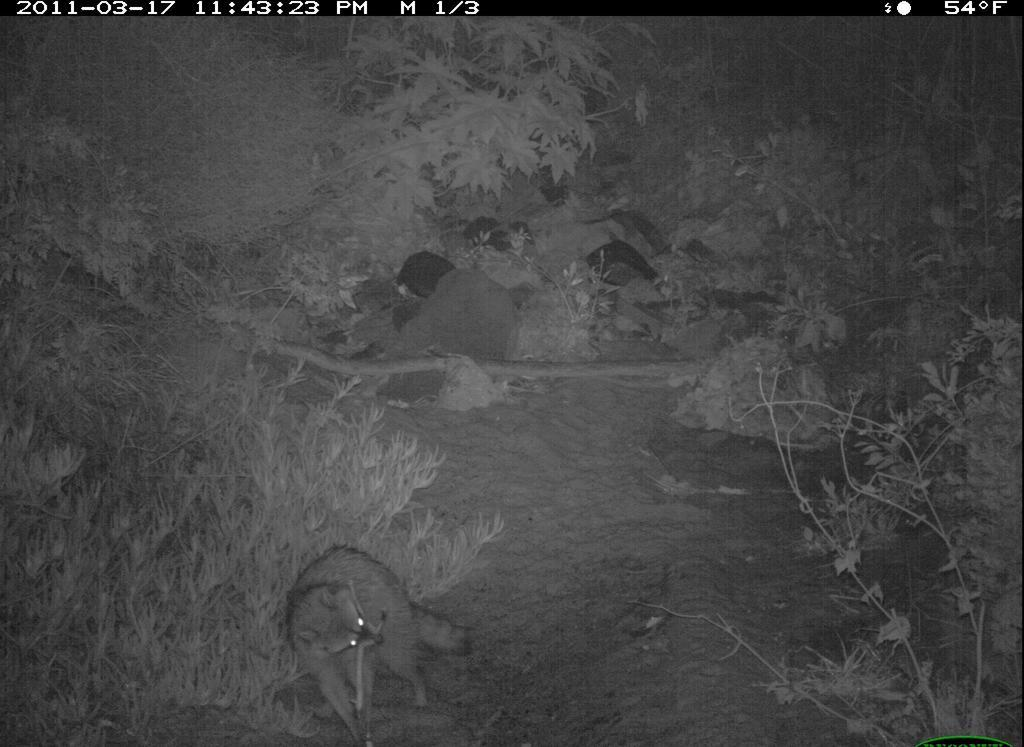raccoon: (231, 534, 488, 747)
